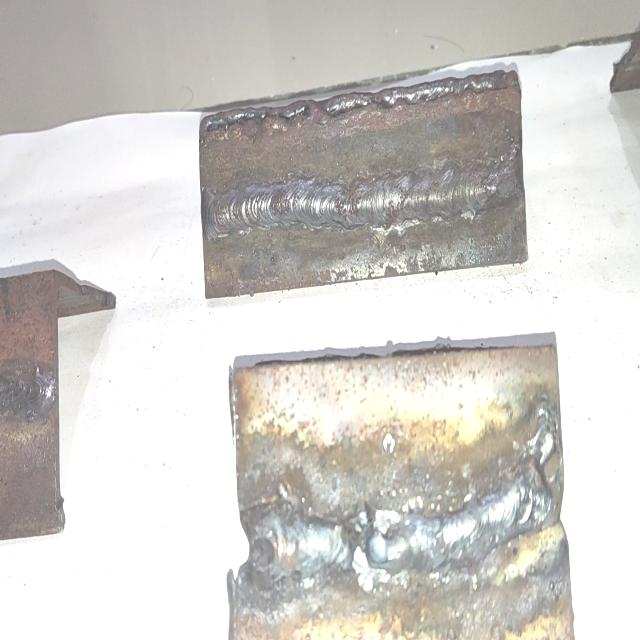Bad Weld: (241, 463, 551, 577)
Defect: (202, 68, 516, 144), (336, 479, 402, 597), (524, 390, 562, 543)
Good Weld: (204, 158, 519, 236)
